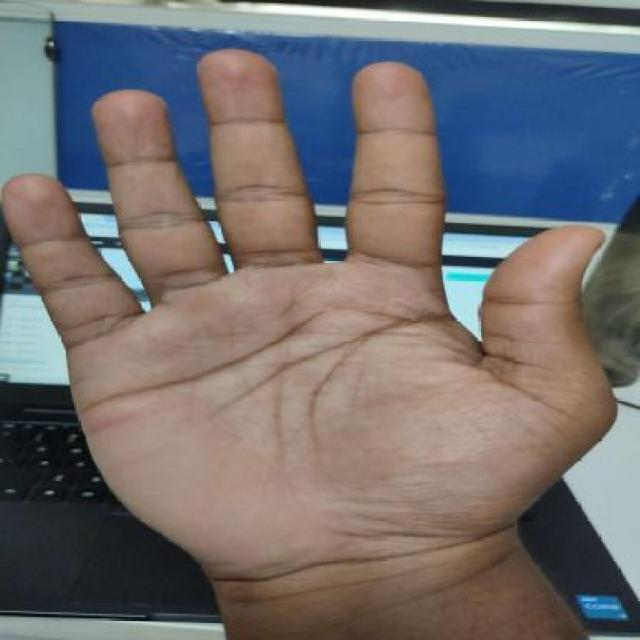no-gloves: (5, 23, 625, 606)
